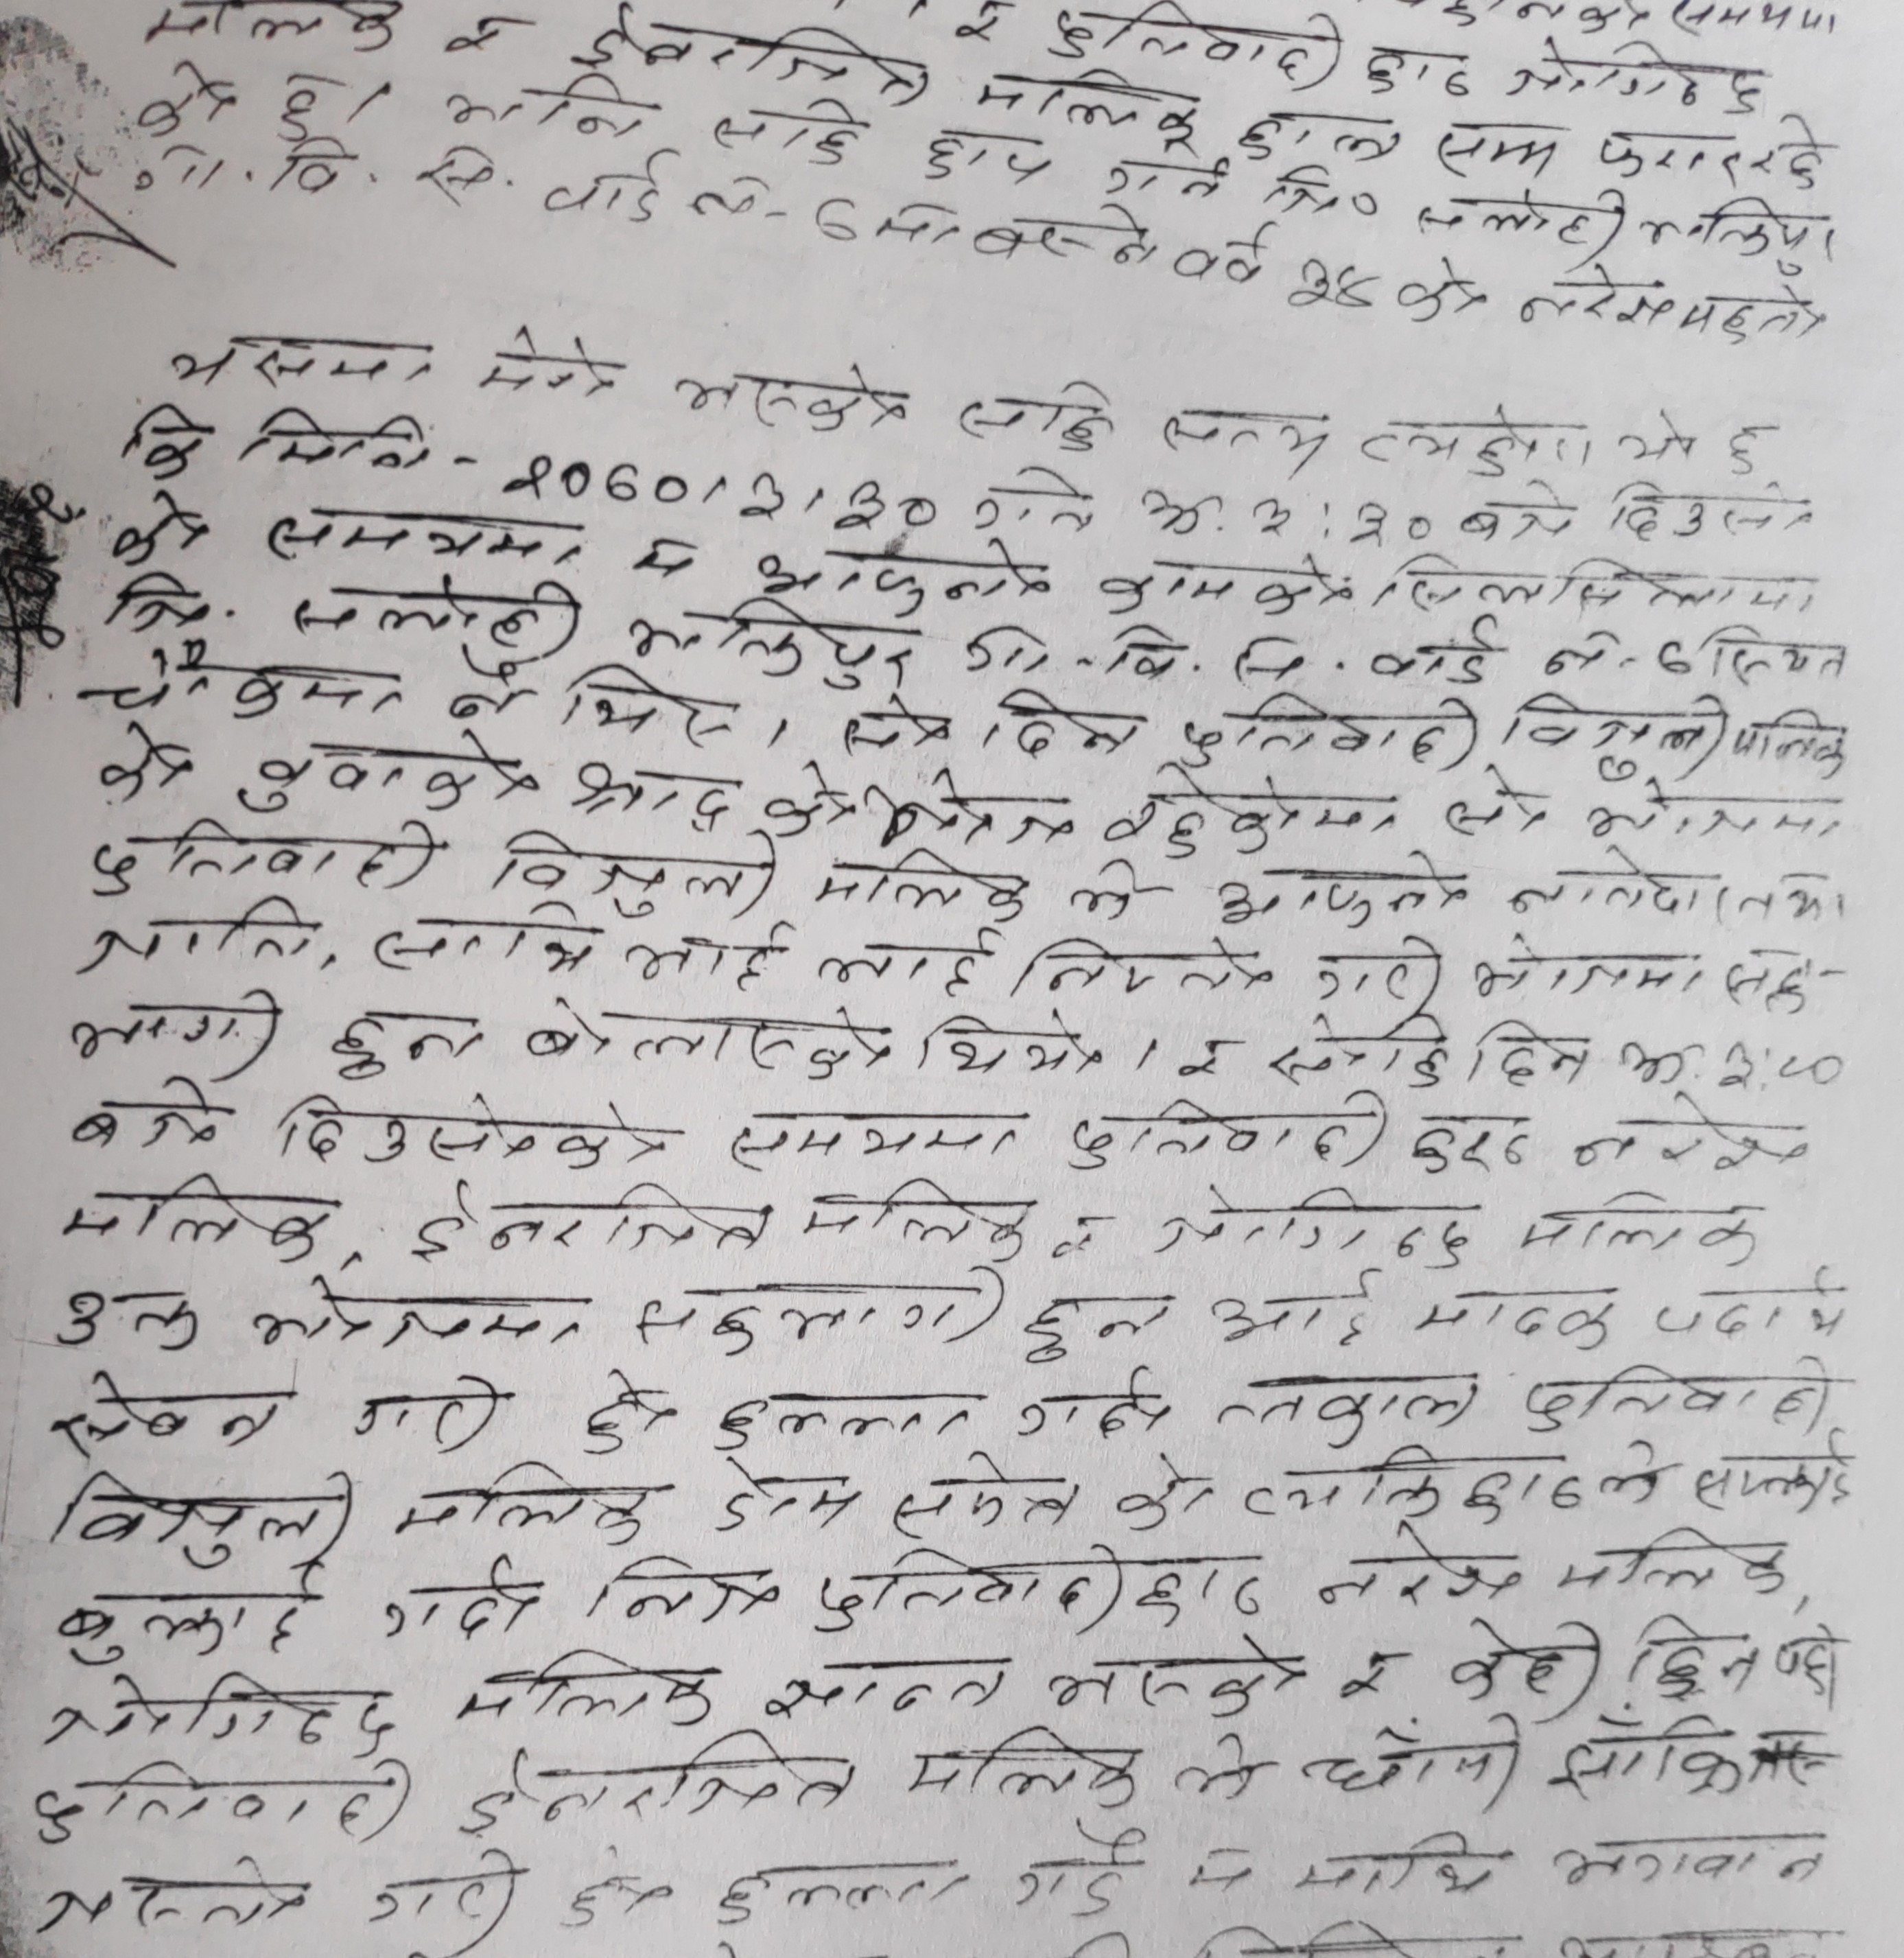text: (460, 1736, 858, 1836), (808, 1549, 1264, 1635), (500, 451, 944, 535), (525, 984, 895, 1084), (568, 3, 925, 105), (633, 1266, 1011, 1360), (1236, 1444, 1675, 1523), (407, 1177, 771, 1267), (51, 1463, 362, 1568), (28, 1760, 414, 1844), (1149, 1178, 1479, 1274), (45, 1664, 402, 1752), (1063, 1082, 1392, 1177), (276, 1094, 671, 1170), (72, 640, 407, 726), (1374, 558, 1831, 619), (250, 1274, 589, 1357), (1093, 773, 1413, 858), (51, 1565, 325, 1664), (287, 568, 580, 661), (628, 600, 925, 691), (44, 1857, 313, 1956), (54, 1170, 337, 1264), (1518, 1360, 1848, 1441), (958, 615, 1317, 689), (89, 818, 448, 892), (231, 731, 544, 813), (752, 533, 1053, 617), (488, 832, 782, 916), (1173, 692, 1486, 771), (1049, 7, 1346, 89), (257, 502, 589, 575), (1046, 1631, 1311, 1722), (453, 1643, 722, 1732), (395, 1458, 654, 1551), (1500, 37, 1768, 124), (45, 1364, 290, 1458), (77, 890, 322, 981), (1502, 684, 1727, 781), (906, 1720, 1142, 1813), (1206, 1371, 1483, 1449), (1535, 1713, 1750, 1813), (671, 353, 916, 441), (1308, 1712, 1525, 1808), (1018, 925, 1275, 1005), (364, 895, 600, 982), (722, 1105, 1023, 1173), (1567, 1094, 1818, 1175), (1551, 1820, 1832, 1892), (972, 61, 1206, 147), (801, 1173, 1033, 1259), (1518, 1191, 1773, 1267), (813, 841, 1035, 928), (710, 1858, 972, 1932), (1586, 781, 1853, 853), (1208, 853, 1467, 927), (1595, 117, 1836, 194), (1310, 1524, 1518, 1614), (1094, 547, 1353, 619), (163, 327, 434, 395), (1638, 189, 1843, 278), (864, 766, 1072, 853), (1359, 404, 1598, 479), (1509, 848, 1733, 928), (713, 1390, 979, 1456), (1551, 1524, 1792, 1596), (1297, 1829, 1512, 1909), (369, 1846, 523, 1958), (1649, 1259, 1853, 1343), (1404, 185, 1630, 260), (63, 988, 288, 1063), (1441, 1608, 1605, 1712), (434, 70, 650, 147), (238, 402, 441, 481), (755, 1659, 1014, 1720), (551, 664, 743, 746), (886, 1458, 1079, 1540), (1460, 942, 1708, 1005), (1012, 1813, 1149, 1923), (1205, 1267, 1379, 1353), (909, 1007, 1110, 1080), (1413, 1283, 1617, 1355), (1007, 1358, 1173, 1446), (591, 1554, 789, 1628), (969, 199, 1161, 274), (1595, 476, 1815, 540), (810, 925, 1007, 996), (1156, 399, 1338, 476), (376, 1556, 535, 1643), (1268, 1012, 1448, 1089), (128, 0, 407, 49), (951, 376, 1121, 455), (570, 757, 733, 837), (705, 1462, 869, 1540), (990, 689, 1145, 771), (59, 1077, 226, 1154), (1021, 1283, 1182, 1362), (322, 1005, 484, 1082), (1231, 100, 1413, 168), (617, 920, 785, 993), (539, 147, 682, 233), (467, 325, 626, 402), (1682, 1448, 1866, 1514), (1671, 278, 1836, 351), (1310, 930, 1451, 1012), (712, 93, 862, 170), (1733, 701, 1859, 792), (1512, 262, 1675, 332), (51, 1281, 205, 1355), (1628, 1610, 1759, 1696), (346, 1372, 502, 1444), (1705, 622, 1853, 696), (1365, 617, 1500, 692), (1404, 1107, 1547, 1177), (913, 122, 1054, 192), (558, 1846, 675, 1930), (970, 467, 1103, 540), (126, 56, 240, 142), (1470, 1012, 1595, 1089), (580, 1362, 677, 1460), (93, 717, 194, 808), (1430, 119, 1568, 185), (1453, 476, 1582, 545), (1706, 1035, 1846, 1094), (1094, 143, 1224, 206), (1715, 941, 1818, 1019), (841, 692, 960, 760), (1733, 862, 1860, 925), (1170, 213, 1273, 290), (761, 753, 855, 837), (1395, 250, 1491, 332), (1364, 38, 1479, 105), (108, 493, 212, 566), (1107, 1458, 1206, 1531), (119, 404, 208, 484), (441, 645, 533, 722), (1170, 1732, 1262, 1808), (1439, 781, 1553, 843), (105, 575, 212, 638), (1769, 1626, 1846, 1712), (879, 189, 969, 262), (1287, 257, 1385, 323), (414, 145, 502, 217), (128, 142, 233, 199), (1140, 483, 1227, 551), (1612, 407, 1699, 474), (264, 138, 357, 199), (1063, 860, 1149, 925), (689, 166, 769, 234), (1346, 496, 1435, 556), (1264, 159, 1346, 220), (1332, 1638, 1406, 1703), (1182, 1839, 1257, 1900), (1616, 1033, 1698, 1087), (439, 7, 526, 58), (626, 533, 701, 587), (1537, 628, 1621, 675), (274, 63, 322, 142), (1245, 491, 1304, 551), (1719, 420, 1776, 481), (813, 189, 864, 257), (949, 0, 1014, 49), (1051, 1213, 1107, 1269), (1171, 1038, 1233, 1084), (1656, 638, 1694, 677)
